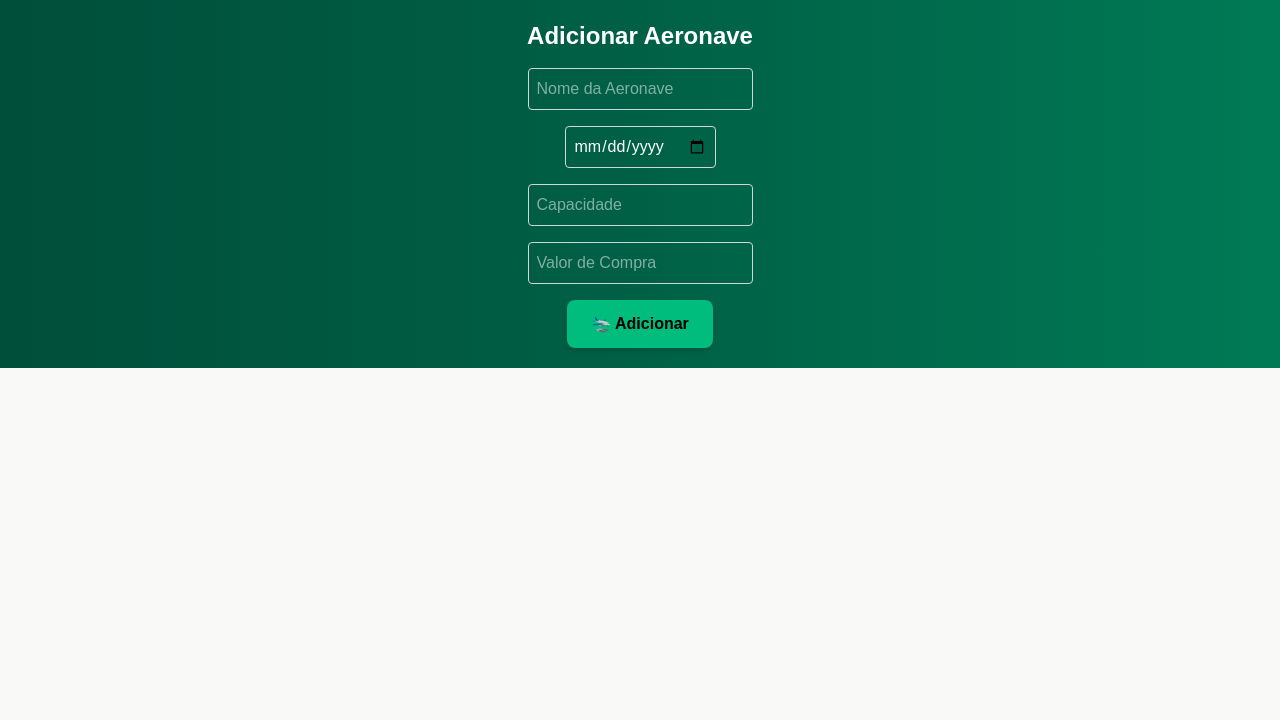
it: Componente SignInAirplane › deve exibir o spinner de carregamento ao enviar o formulário
Type "Boeing 737" into the field with placeholder "Nome da Aeronave" at (640, 89), box [528, 68, 752, 110]
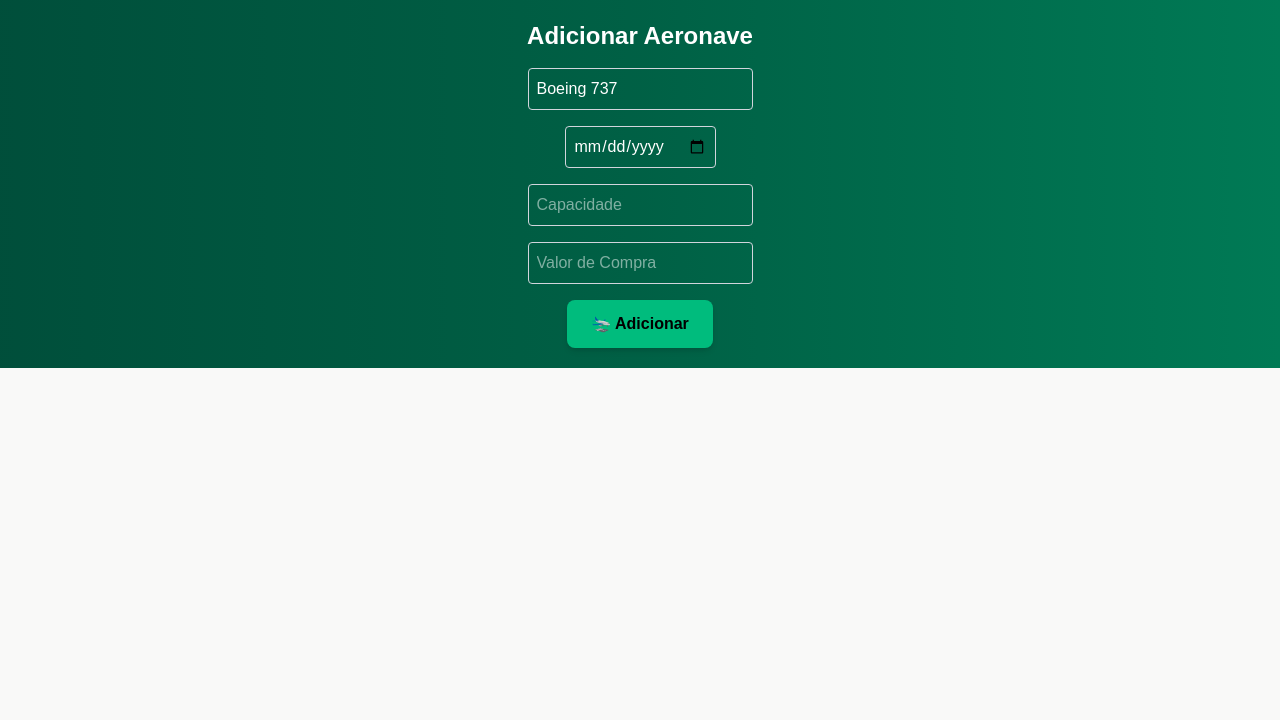
Type "2023-01-01" into the date field with placeholder "Modelo" at (640, 147), box [564, 126, 716, 168]
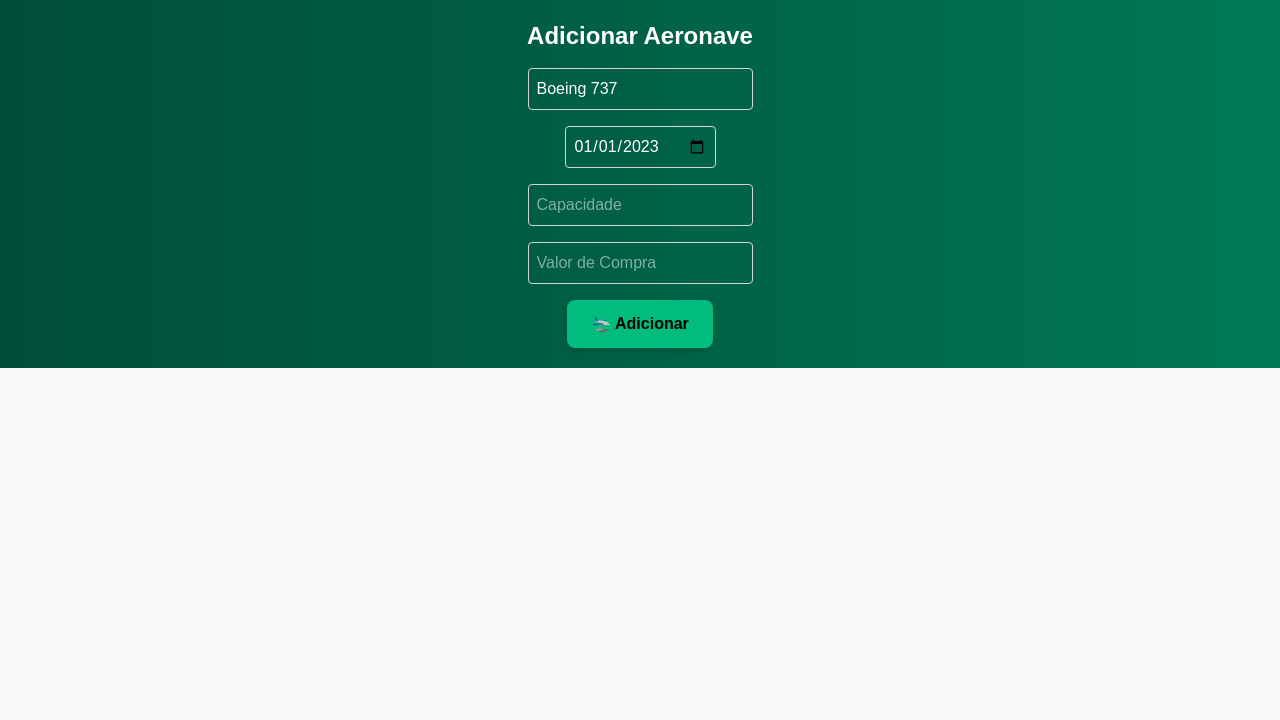
Type "200" into the number field with placeholder "Capacidade" at (640, 205), box [528, 184, 752, 226]
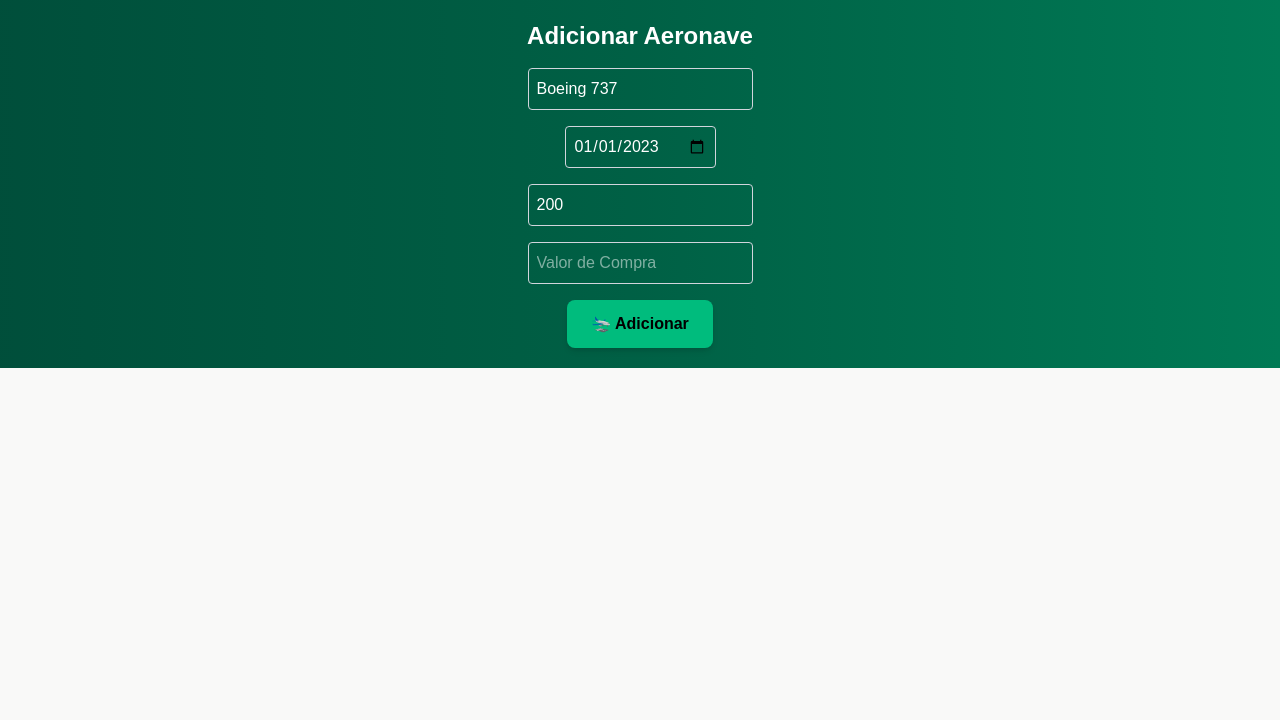
Type "50000000" into the number field with placeholder "Valor de Compra" at (640, 263), box [528, 242, 752, 284]
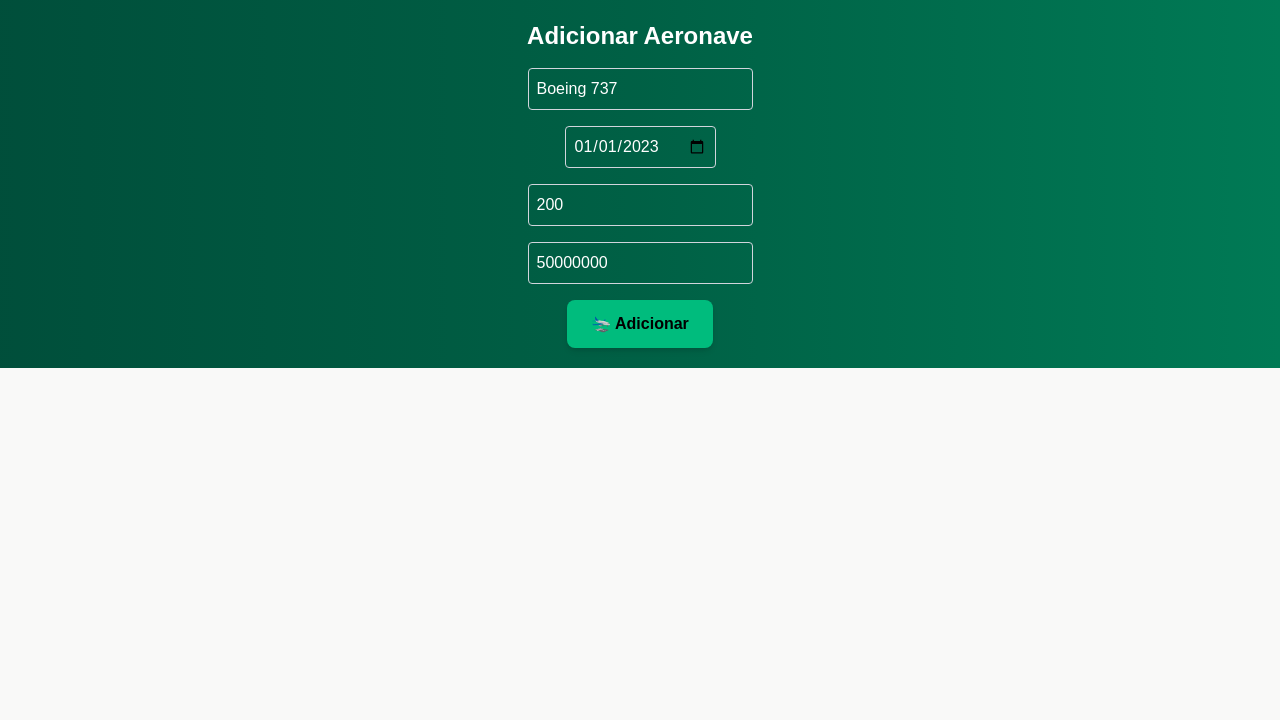
Click the button with test id "add-plane" at (640, 324), box [567, 300, 713, 348]
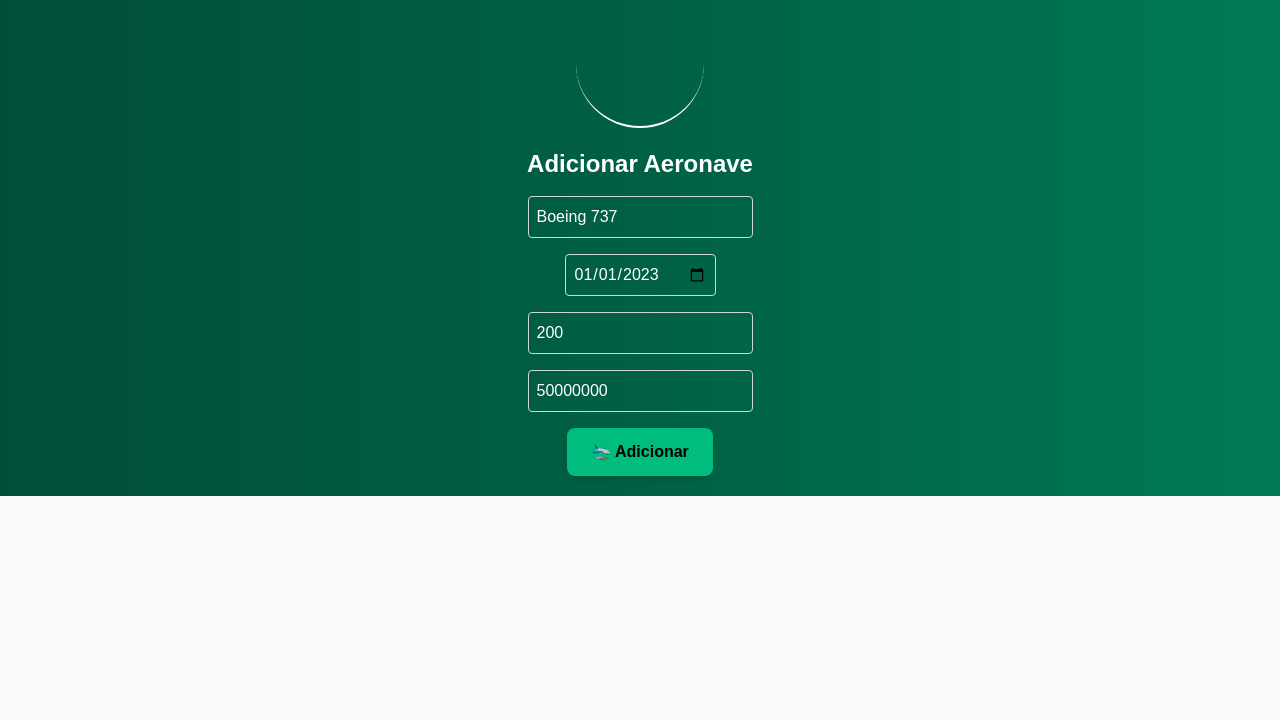
Expected: the element with test id "loading" is shown, [576, 0, 704, 128]
